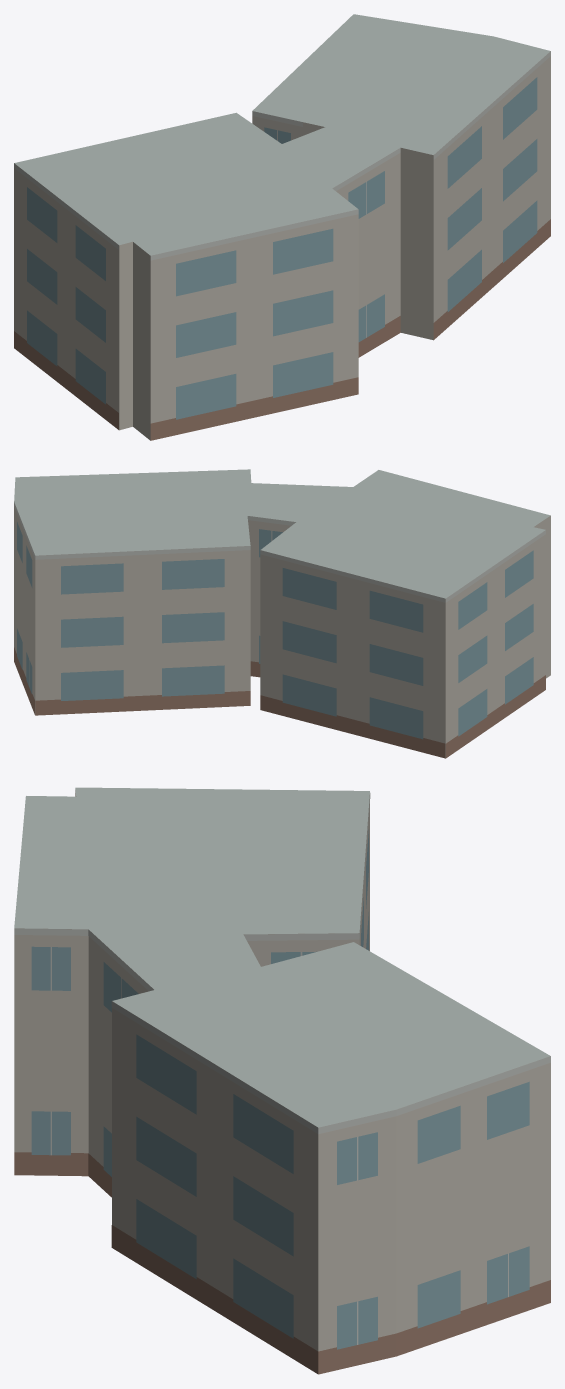
File: survey-upis-32989631.glb
3 views of the same model, one above another, from view 1: azimuth 30°, elevation 25°; view 2: azimuth 150°, elevation 25°; view 3: azimuth 270°, elevation 25° (orthographic). The views are drawn at different scales.
Parts seen in each view (by area): view 1: survey-upis-32989631.tmp; view 2: survey-upis-32989631.tmp; view 3: survey-upis-32989631.tmp.
Boxes of the visible parts, left/top/right/bottom form: survey-upis-32989631.tmp: left=14, top=14, right=550, bottom=440; survey-upis-32989631.tmp: left=14, top=469, right=550, bottom=758; survey-upis-32989631.tmp: left=14, top=787, right=550, bottom=1374.
Bounding box in the file's own units: 27.06 × 9.15 × 18.04.
